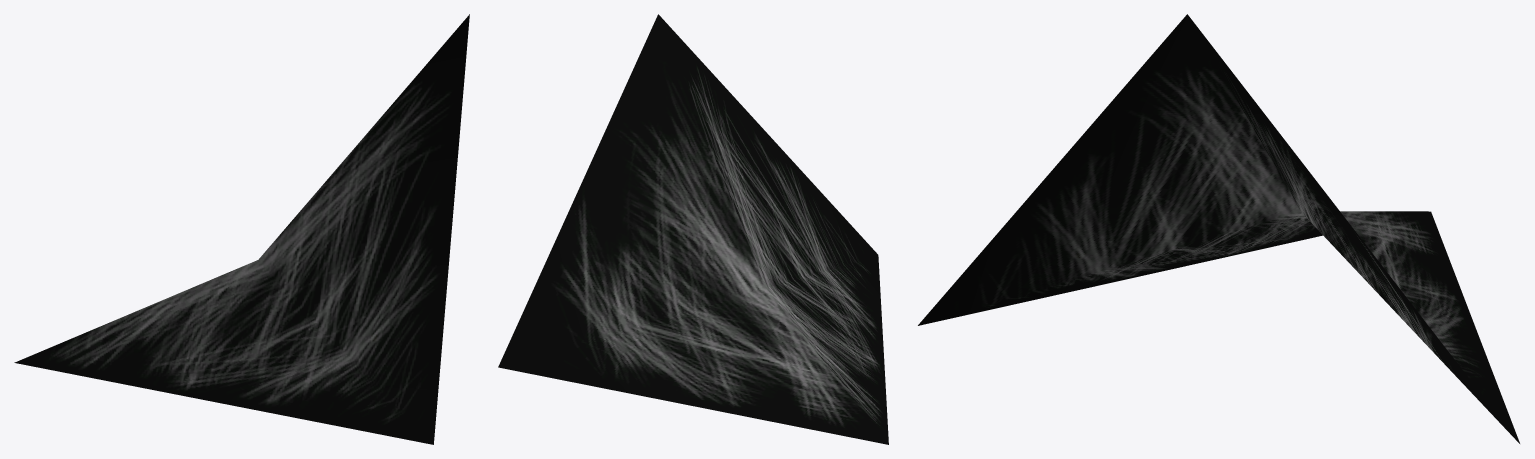
The model's file is EKH_GROTTO_PS_GR_CORNER_WEB__NC03.fbx.
The picture shows the model from 3 angles, left to right: view 1: azimuth 30°, elevation 25°; view 2: azimuth 150°, elevation 25°; view 3: azimuth 270°, elevation 25°; orthographic projection. The views are drawn at different scales.
Visible parts, largest first — view 1: EKH_GROTTO_PS_GR_CORNER_WEB__NC03; view 2: EKH_GROTTO_PS_GR_CORNER_WEB__NC03; view 3: EKH_GROTTO_PS_GR_CORNER_WEB__NC03.
Boxes of the visible parts, x1=… form: EKH_GROTTO_PS_GR_CORNER_WEB__NC03: x1=14, y1=14, x2=469, y2=444; EKH_GROTTO_PS_GR_CORNER_WEB__NC03: x1=498, y1=14, x2=888, y2=444; EKH_GROTTO_PS_GR_CORNER_WEB__NC03: x1=918, y1=14, x2=1519, y2=443.
Bounding box in the file's own units: 30044 × 23290 × 30444.
Materials: 1 (1 with a texture image).
